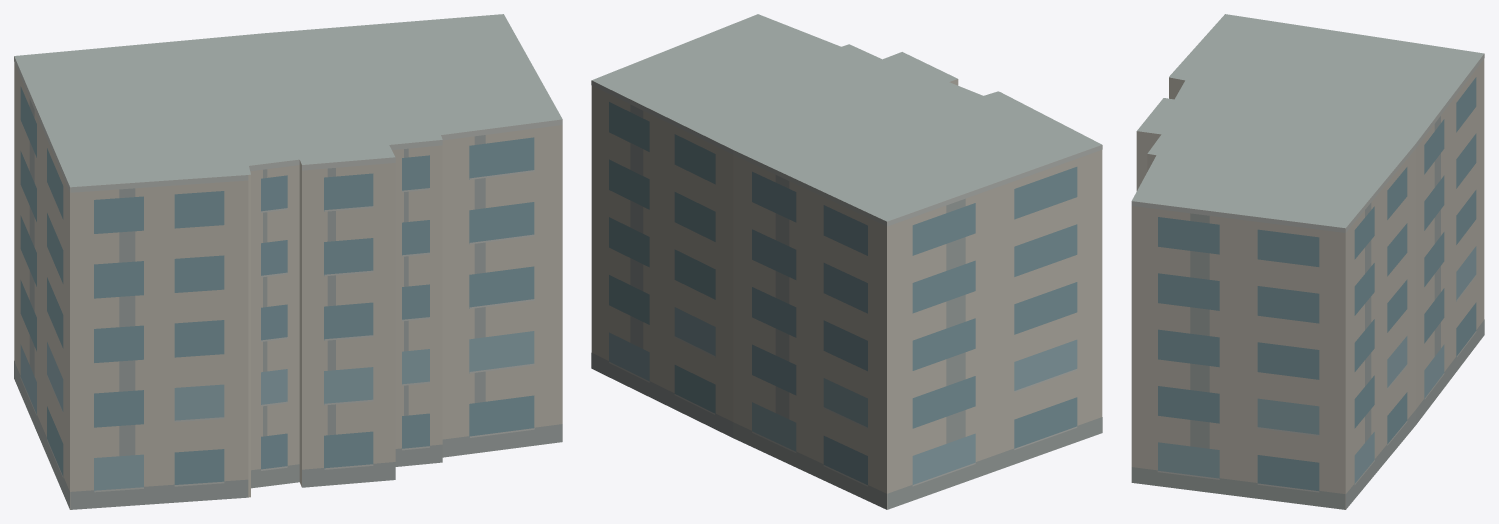
The model's file is survey-upis-32752788.glb.
3 renders of one model, left to right at view 1: azimuth 30°, elevation 25°; view 2: azimuth 150°, elevation 25°; view 3: azimuth 270°, elevation 25°, orthographic. The views are drawn at different scales.
Parts seen in each view (by area): view 1: survey-upis-32752788.tmp; view 2: survey-upis-32752788.tmp; view 3: survey-upis-32752788.tmp.
Boxes of the visible parts, bbox=[...] form: survey-upis-32752788.tmp: bbox=[14, 14, 562, 509]; survey-upis-32752788.tmp: bbox=[591, 14, 1102, 509]; survey-upis-32752788.tmp: bbox=[1131, 14, 1484, 509].
Size of the model in its own units: 23.09 by 14.15 by 16.08.
